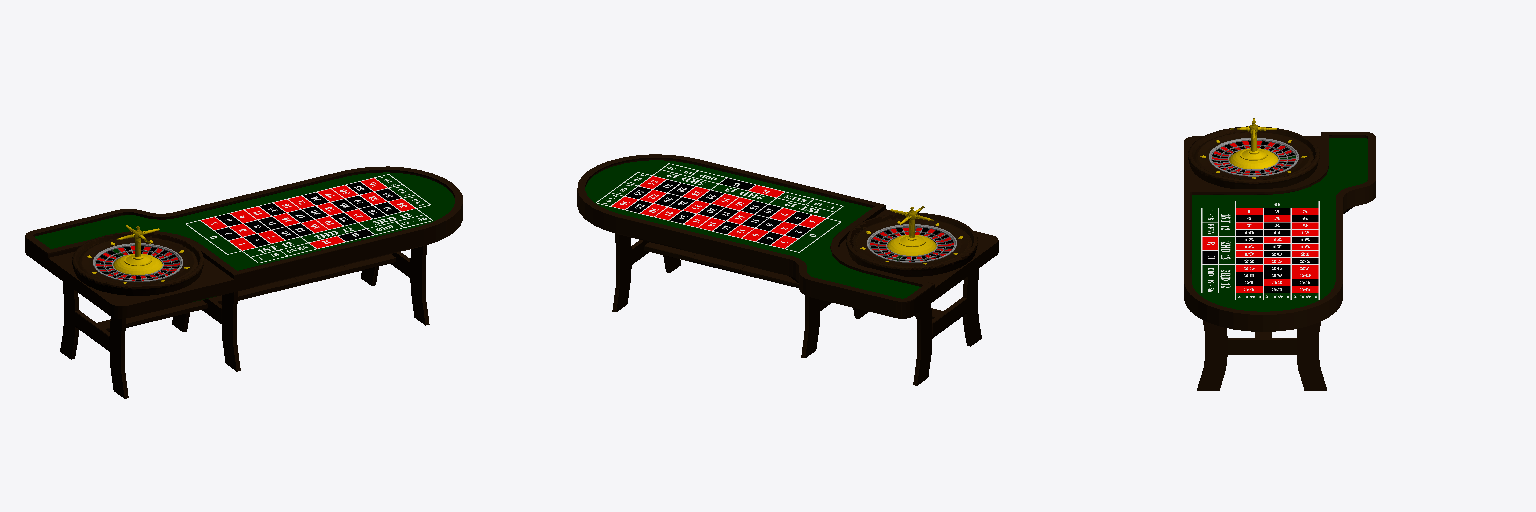
3 views of the same model, side by side, from view 1: azimuth 30°, elevation 25°; view 2: azimuth 150°, elevation 25°; view 3: azimuth 270°, elevation 25° (orthographic).
Parts seen in each view (by area): view 1: Circle.001, board_Plane.063, Circle.000_Circle.002, Plane.001_Plane.017, Circle.006_Circle.000; view 2: Circle.001, board_Plane.063, Circle.000_Circle.002, Plane.001_Plane.017, Circle.006_Circle.000; view 3: Circle.001, board_Plane.063, Circle.000_Circle.002, Plane.001_Plane.017, Circle.006_Circle.000.
Part boxes in pixels (bbox=[...]): Circle.001: bbox=[25, 166, 462, 398]; board_Plane.063: bbox=[176, 172, 454, 270]; Circle.000_Circle.002: bbox=[93, 243, 182, 281]; Plane.001_Plane.017: bbox=[113, 225, 162, 274]; Circle.006_Circle.000: bbox=[96, 246, 179, 280]; Circle.001: bbox=[577, 154, 998, 385]; board_Plane.063: bbox=[585, 160, 871, 257]; Circle.000_Circle.002: bbox=[867, 224, 956, 262]; Plane.001_Plane.017: bbox=[887, 206, 936, 255]; Circle.006_Circle.000: bbox=[870, 228, 953, 261]; Circle.001: bbox=[1184, 126, 1375, 390]; board_Plane.063: bbox=[1192, 195, 1335, 311]; Circle.000_Circle.002: bbox=[1209, 138, 1298, 176]; Plane.001_Plane.017: bbox=[1229, 118, 1278, 168]; Circle.006_Circle.000: bbox=[1212, 141, 1295, 174].
Size of the model in its own units: 23.11 by 8.28 by 10.21.
6 materials, 6 textured.